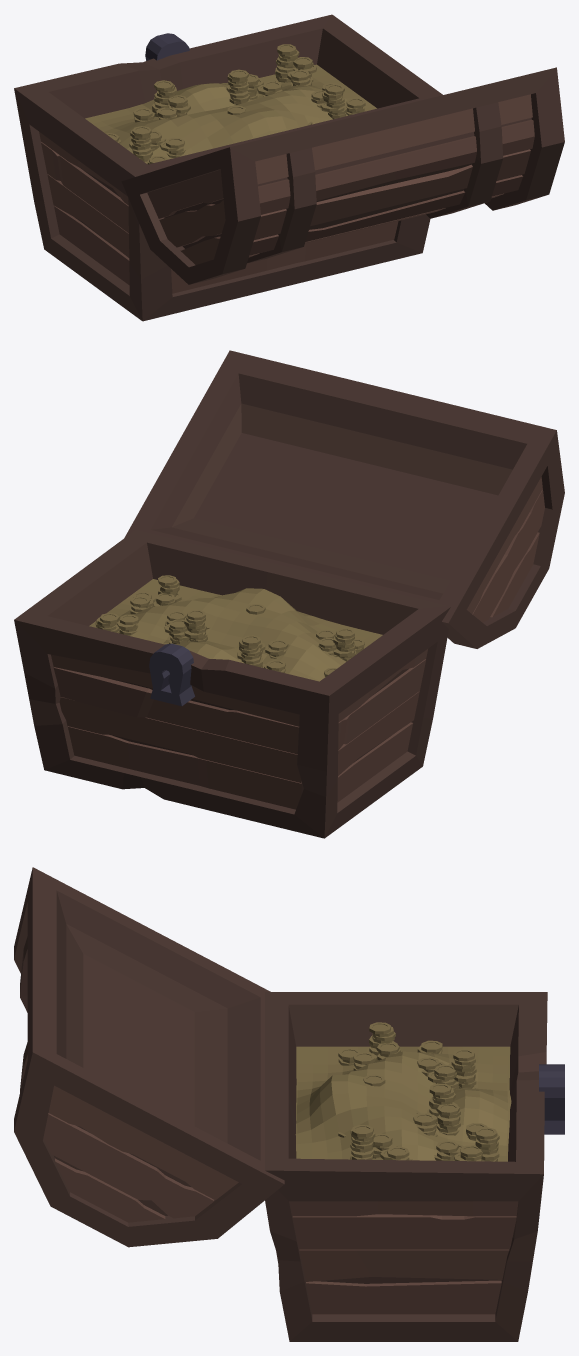
Rendered from chest_coins.fbx.
3 renders of one model, top to bottom at view 1: azimuth 30°, elevation 25°; view 2: azimuth 150°, elevation 25°; view 3: azimuth 270°, elevation 25°, orthographic. The views are drawn at different scales.
Visible parts, largest first — view 1: Chest_Base; view 2: Chest_Base; view 3: Chest_Base.
Boxes of the visible parts, x1=… form: Chest_Base: x1=14, y1=14, x2=564, y2=321; Chest_Base: x1=14, y1=350, x2=564, y2=838; Chest_Base: x1=14, y1=867, x2=564, y2=1341.
Size of the model in its own units: 0.9476 by 0.7227 by 1.19.
